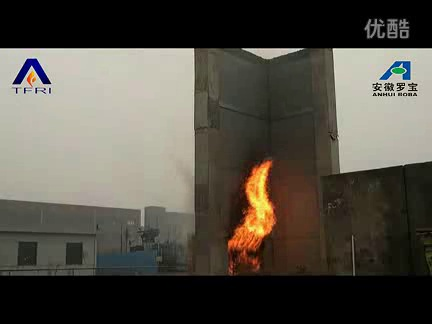fire: (224, 155, 279, 275)
